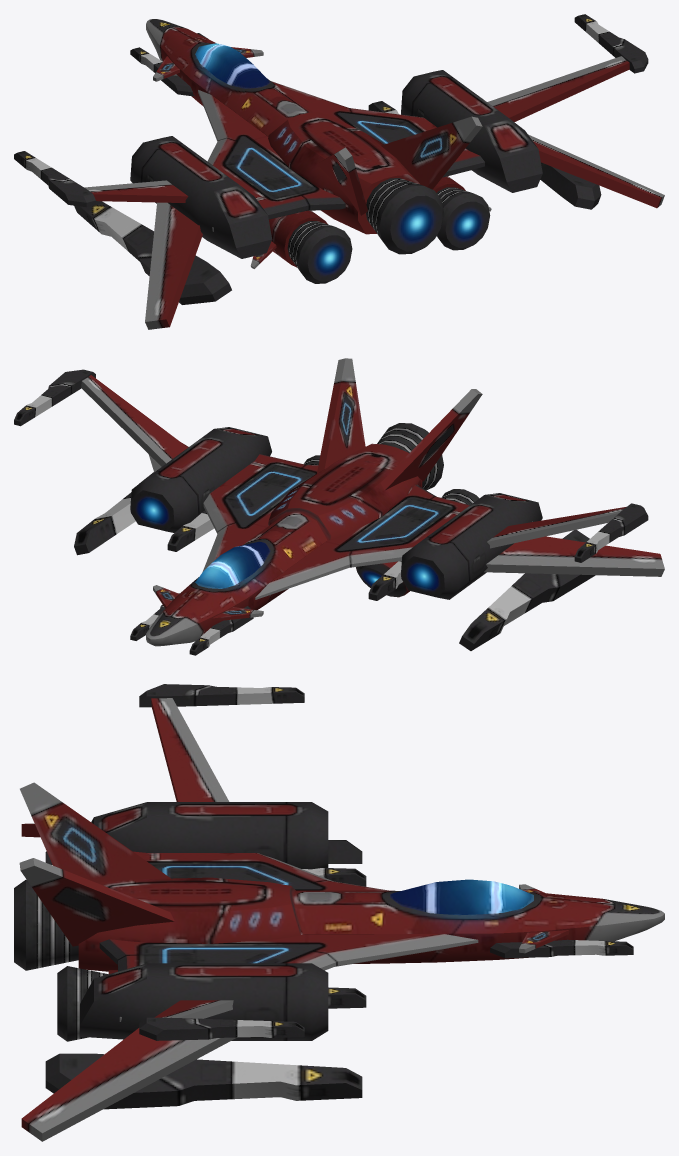
File: scout1.gltf
3 views of the same model, one above another, from view 1: azimuth 30°, elevation 25°; view 2: azimuth 150°, elevation 25°; view 3: azimuth 270°, elevation 25° (orthographic). The views are drawn at different scales.
Visible parts, largest first — view 1: StarSparrow1; view 2: StarSparrow1; view 3: StarSparrow1.
Part boxes in pixels (x1,y1,x2,y2): StarSparrow1: (14, 14, 664, 329); StarSparrow1: (14, 358, 664, 655); StarSparrow1: (14, 684, 664, 1141).
Size of the model in its own units: 13.64 by 3.26 by 10.85.
1 material, 1 textured.
